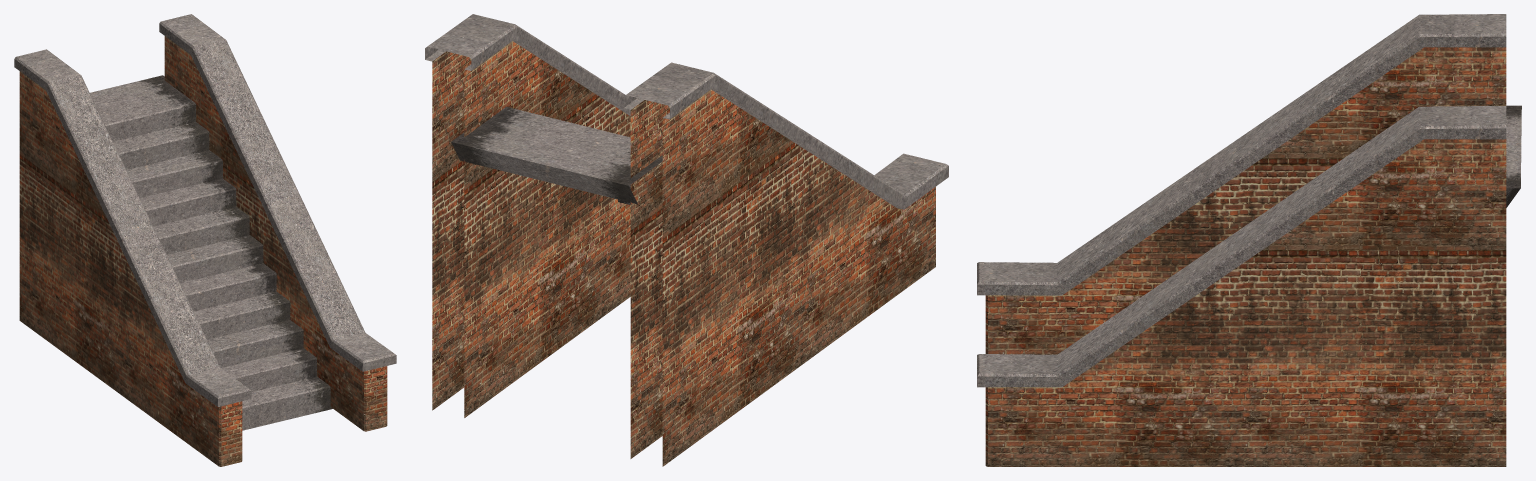
File: BUILDING_outsideStairs_01.FBX
The picture shows the model from 3 angles, left to right: view 1: azimuth 30°, elevation 25°; view 2: azimuth 150°, elevation 25°; view 3: azimuth 270°, elevation 25°; orthographic projection. The views are drawn at different scales.
Parts seen in each view (by area): view 1: BUILDING_outsideStairs_01_walls, BUILDING_outsideStairs_01_steps; view 2: BUILDING_outsideStairs_01_walls, BUILDING_outsideStairs_01_steps; view 3: BUILDING_outsideStairs_01_walls, BUILDING_outsideStairs_01_steps.
Boxes of the visible parts, x1=… form: BUILDING_outsideStairs_01_walls: x1=14, y1=14, x2=396, y2=466; BUILDING_outsideStairs_01_steps: x1=90, y1=75, x2=332, y2=430; BUILDING_outsideStairs_01_walls: x1=425, y1=14, x2=948, y2=466; BUILDING_outsideStairs_01_steps: x1=451, y1=106, x2=662, y2=204; BUILDING_outsideStairs_01_walls: x1=977, y1=14, x2=1506, y2=466; BUILDING_outsideStairs_01_steps: x1=1506, y1=105, x2=1521, y2=207.
Bounding box in the file's own units: 331 × 473 × 672.
Materials: 3 (3 with a texture image).
